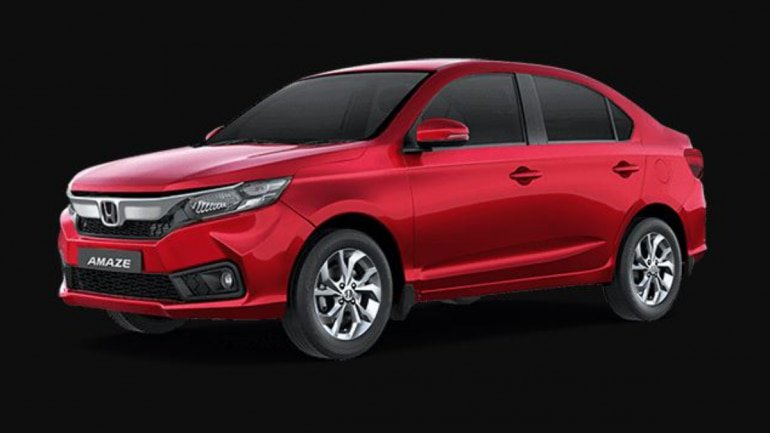car: (55, 54, 716, 364)
